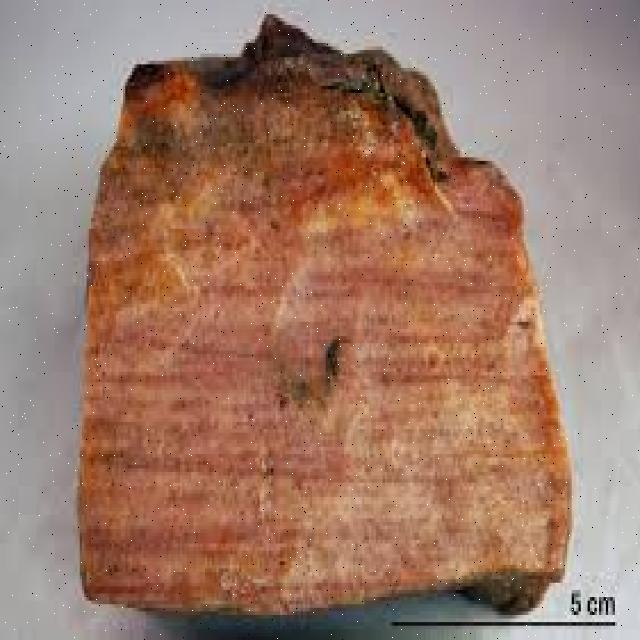Metamorphic: (84, 14, 570, 618)
